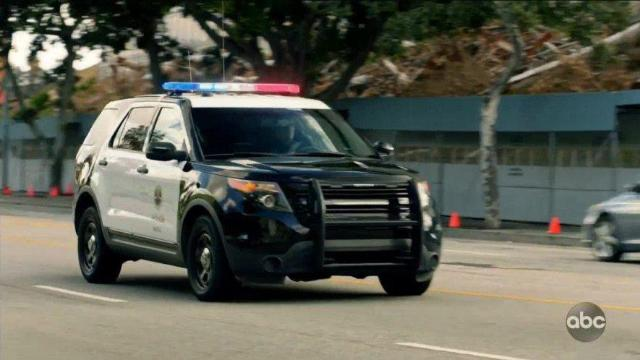police: (58, 73, 441, 312)
